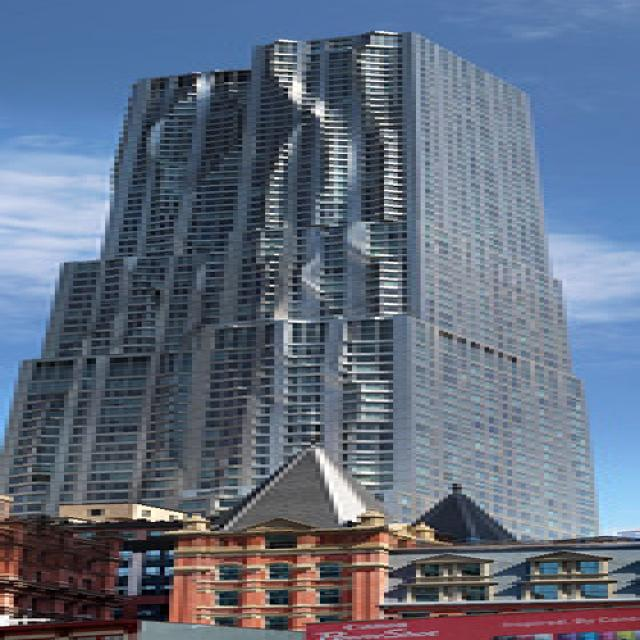Normal_building: (5, 28, 617, 518)
